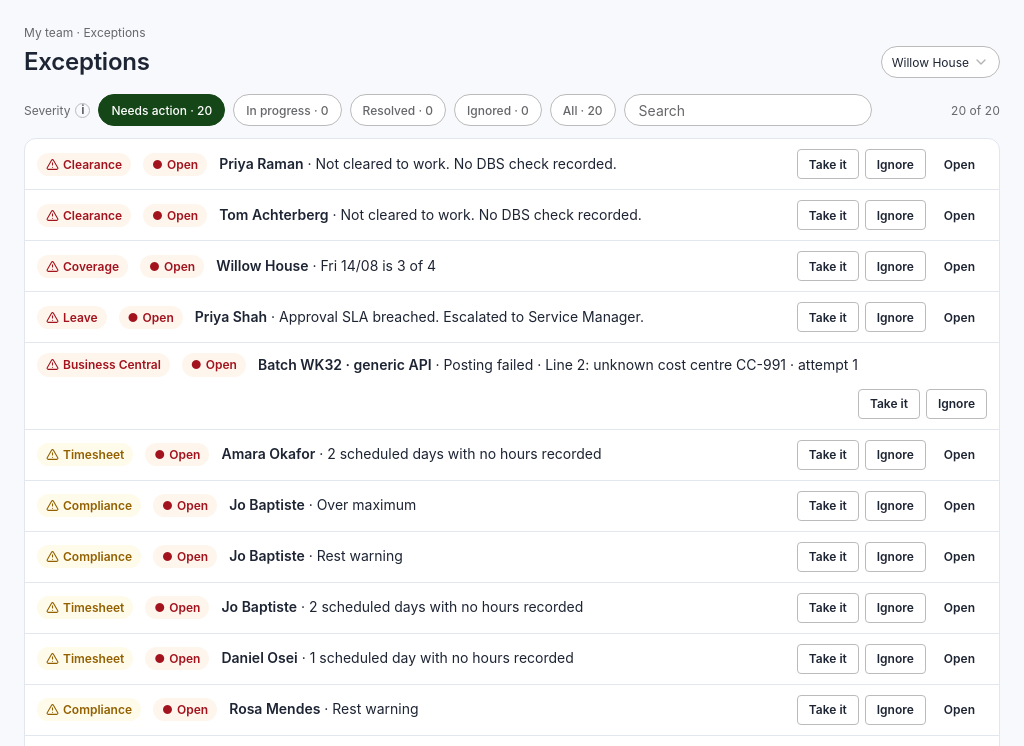
Exceptions › state filters with Needs action the default, a severity and state pill on each row, the severity explained, search, with full test id coverage
Expected: the element with test id "^texc-row-" is shown, [25,139,999,190]
Expected: the dropdown with test id "texc-location" reads "Willow House", [881,46,1000,78]
Type "qualification" into the search field with placeholder "Search".
click(748, 110); type("qualification")  # box [624,94,872,126]
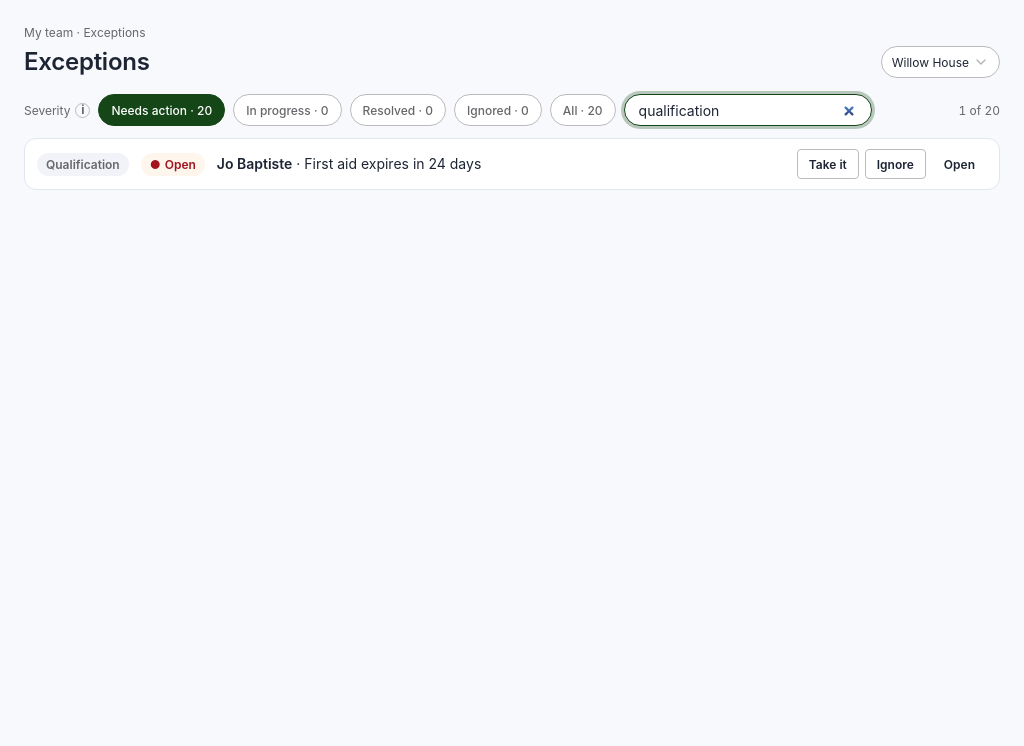
Type "zzz" into the search field with test id "texc-search".
click(748, 110); type("zzz")  # box [624,94,872,126]
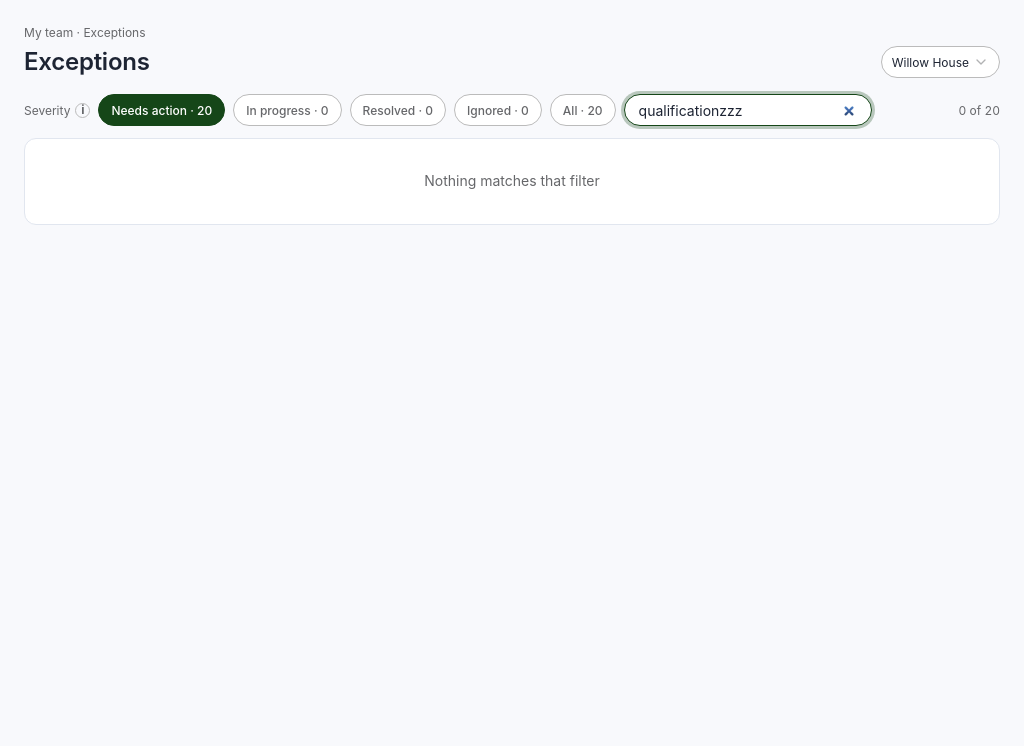
Now the text with test id "texc-empty" reads "Nothing matches that filter", box [424,172,600,189]
